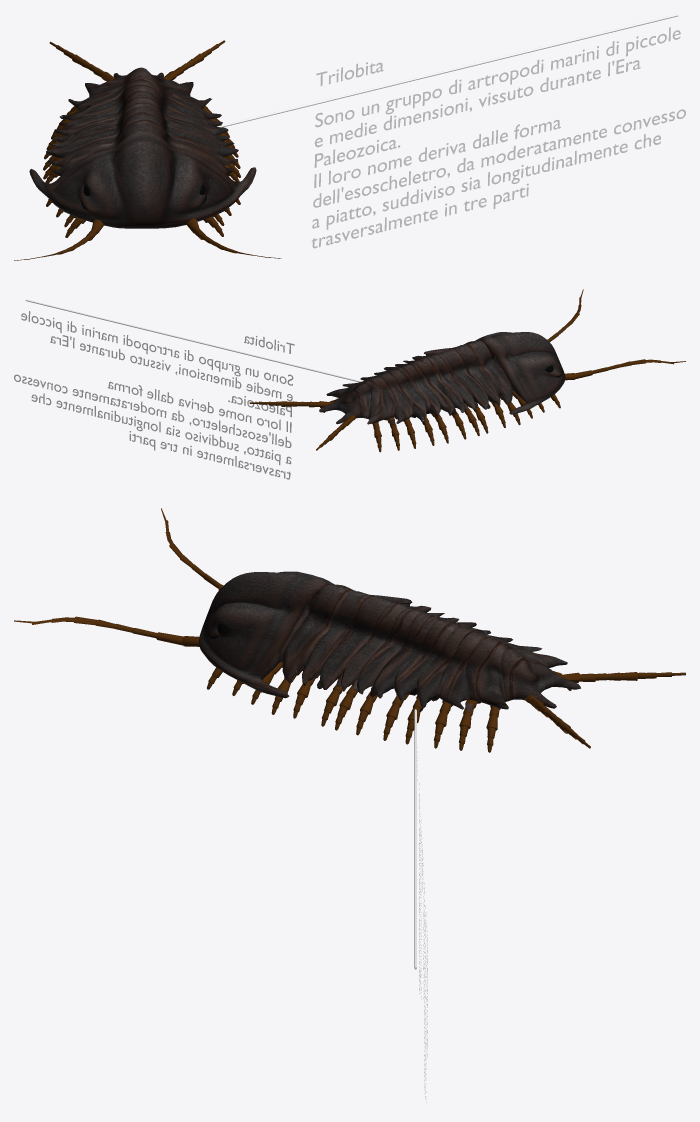
File: Trilobita.gltf
The picture shows the model from 3 angles, top to bottom: view 1: azimuth 30°, elevation 25°; view 2: azimuth 150°, elevation 25°; view 3: azimuth 270°, elevation 25°; orthographic projection. The views are drawn at different scales.
Visible parts, largest first — view 1: occhi_1.001, Text, riga; view 2: occhi_1.001, Text, riga; view 3: occhi_1.001.
Boxes of the visible parts, x1,y1,x2,y2 form: occhi_1.001: (14, 40, 281, 260); Text: (311, 27, 685, 248); riga: (217, 14, 678, 127); occhi_1.001: (249, 289, 685, 452); Text: (14, 311, 294, 479); riga: (25, 299, 361, 382); occhi_1.001: (14, 508, 685, 752).
Size of the model in its own units: 7.99 by 2.05 by 5.18.
Materials: 4 (3 with a texture image).
